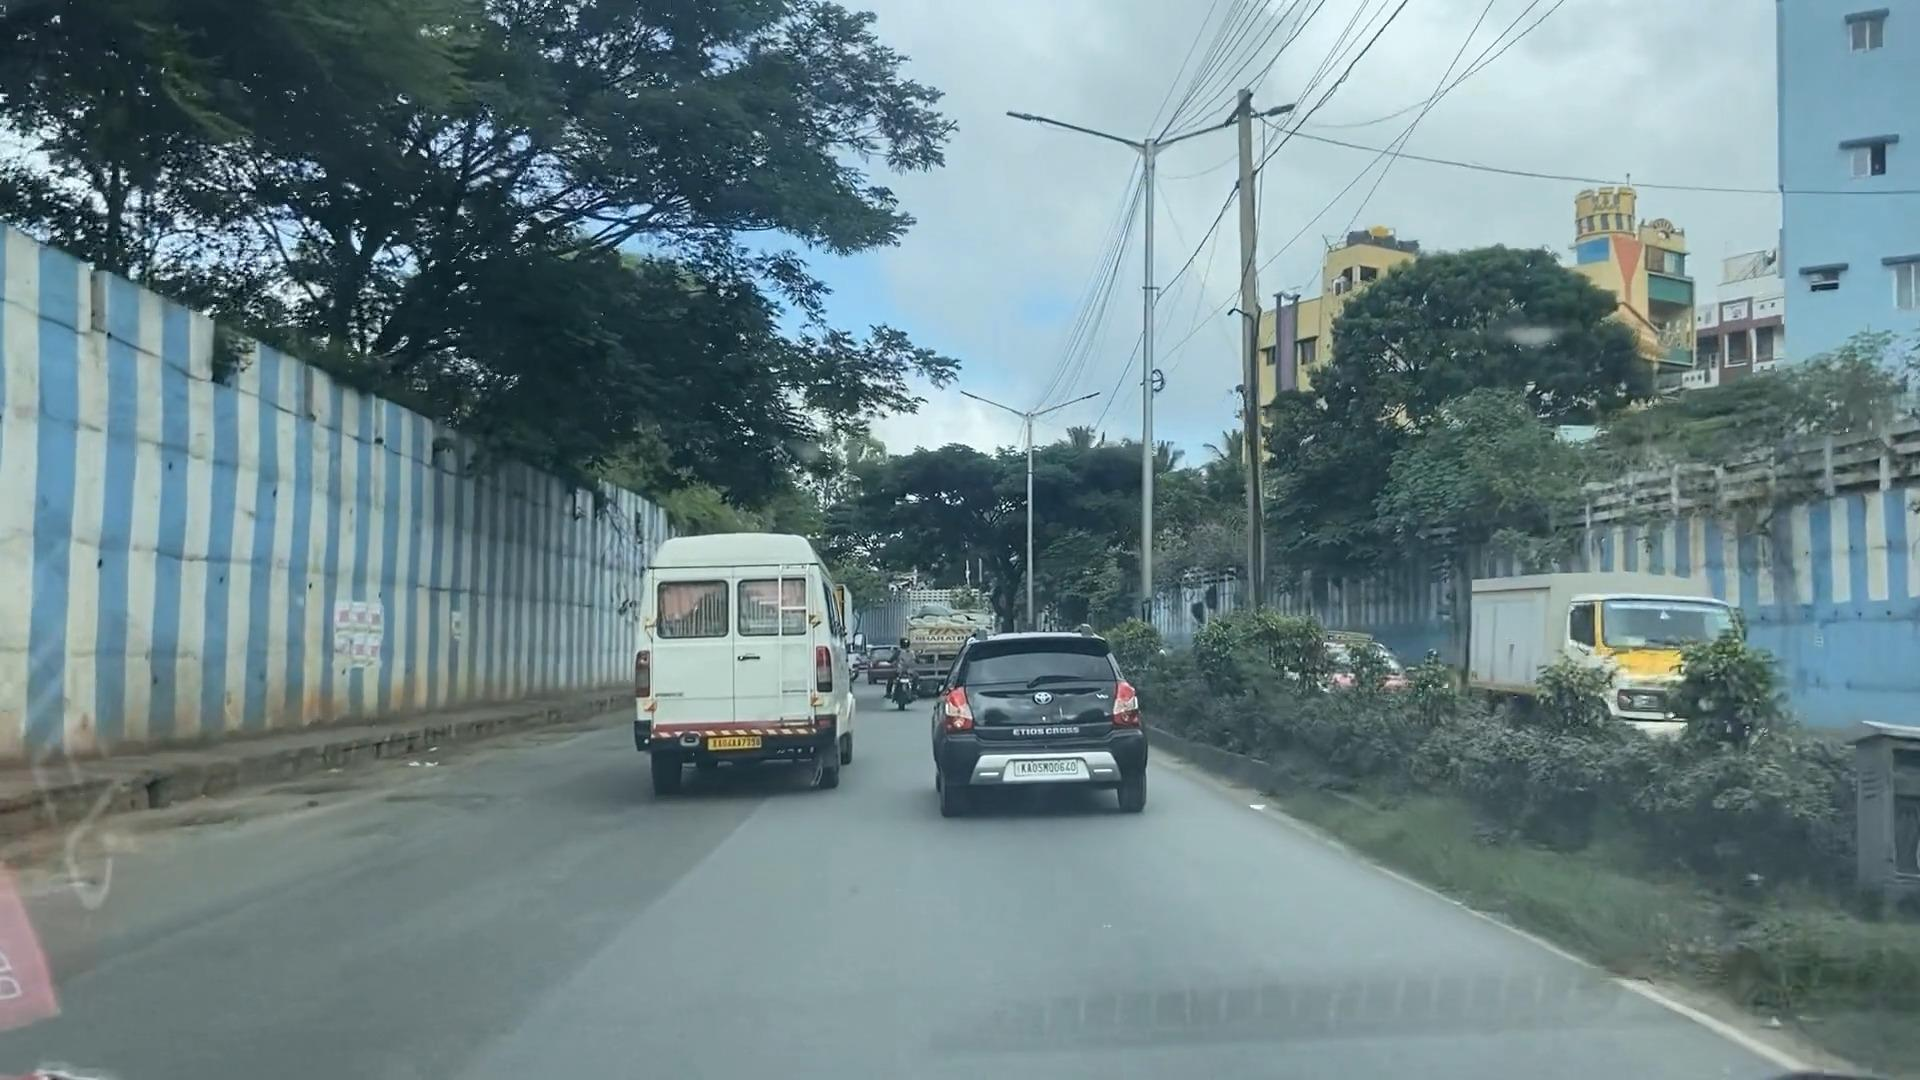HMV: (634, 542, 847, 777)
LMV: (942, 649, 1137, 811)
